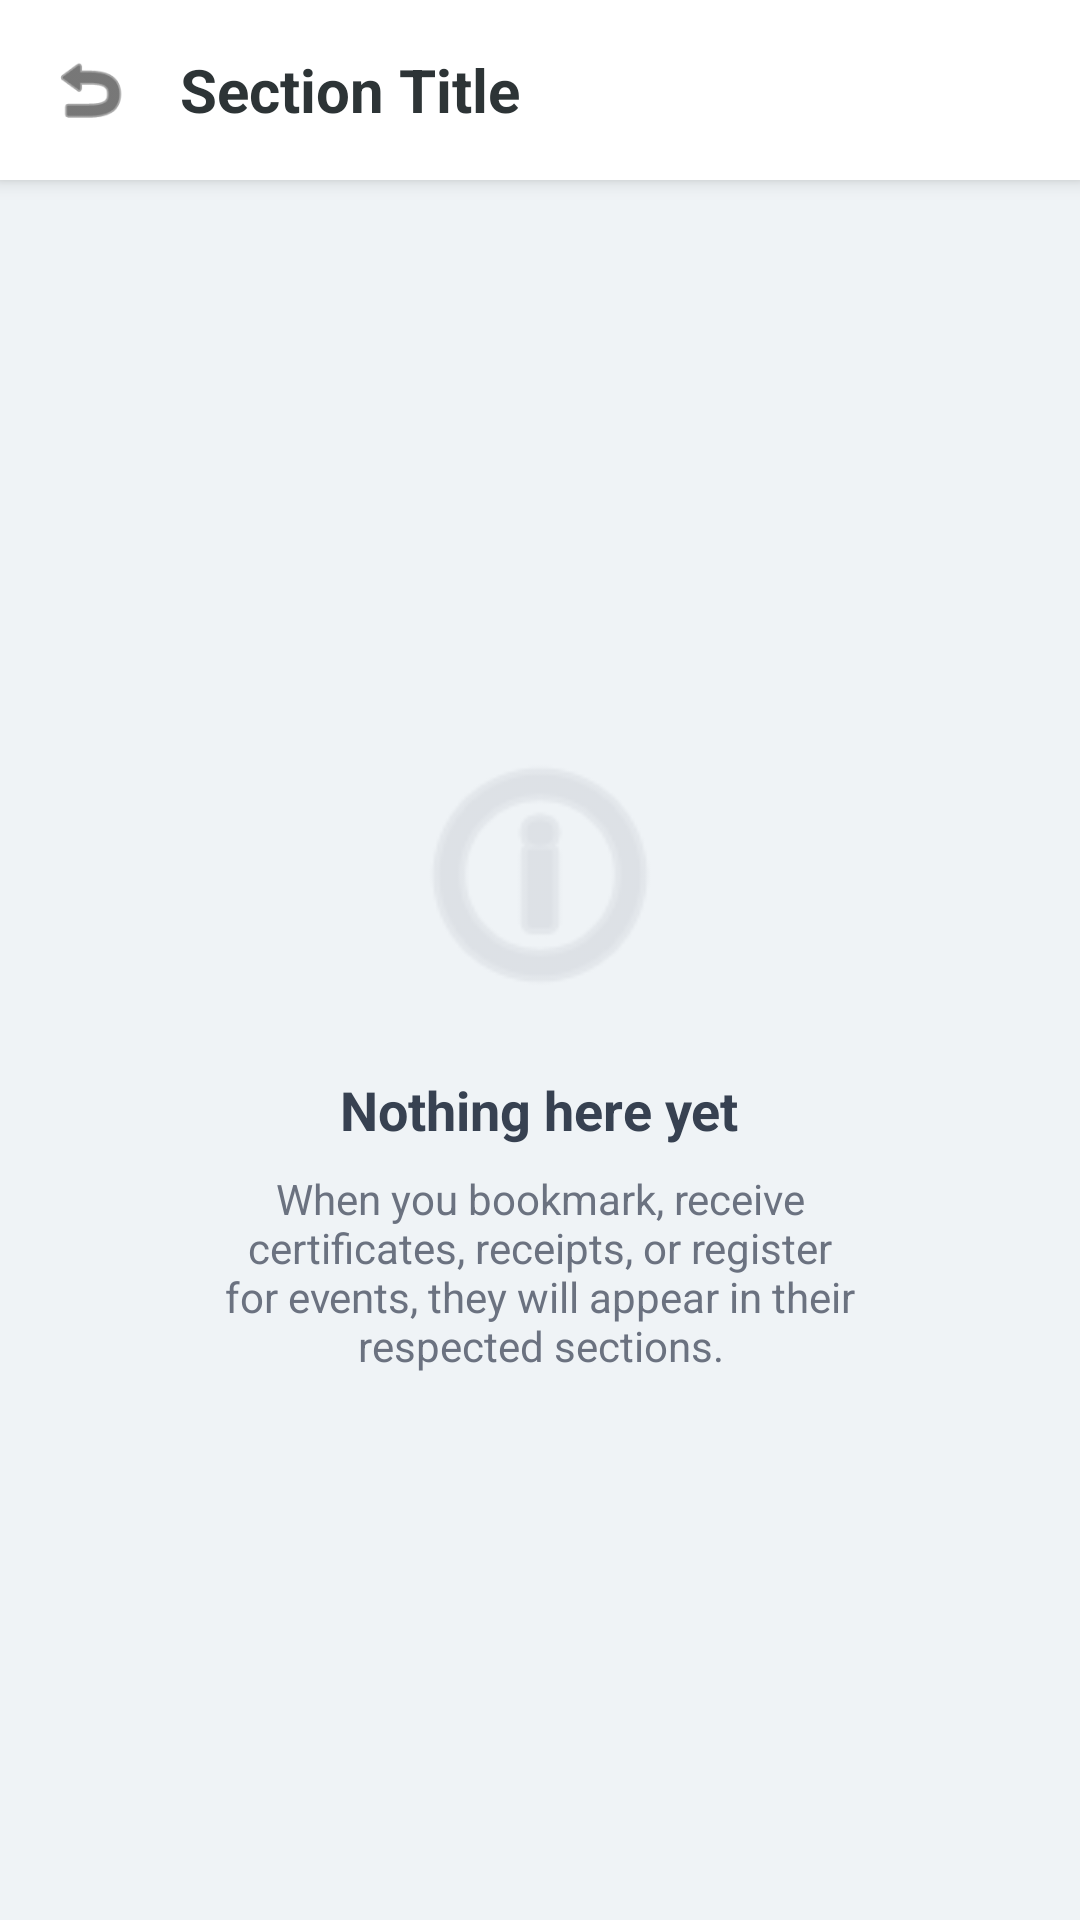

Screen size 1080*1920. Icon name, then its box in pixels as [x1,y1,x2,y2]:
revert: [61,63,121,118]
